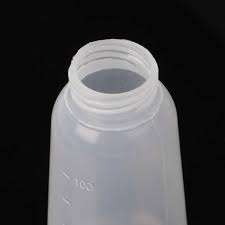plastic_bottle: (46, 39, 188, 225)
